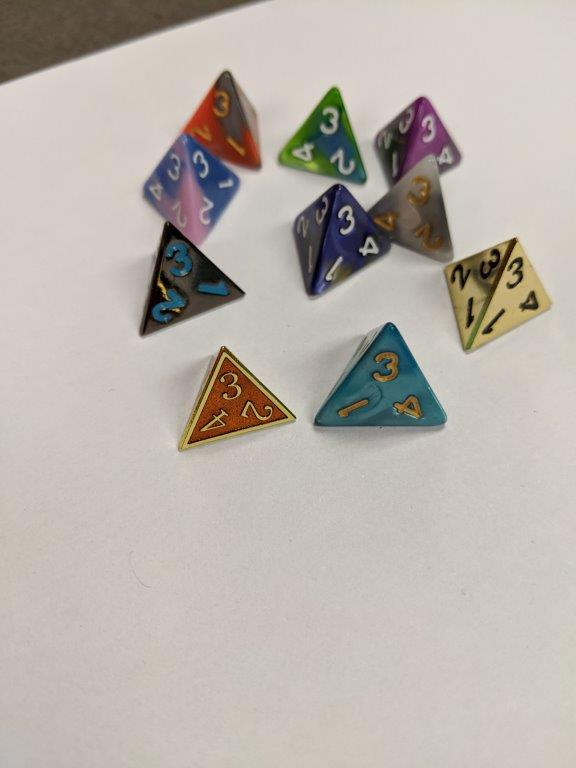d4-3: (310, 319, 449, 432), (171, 343, 297, 455), (133, 224, 247, 342), (442, 236, 555, 353), (133, 127, 241, 247), (290, 181, 392, 300), (365, 151, 452, 265), (176, 64, 265, 175), (274, 83, 365, 182), (373, 94, 465, 184)
